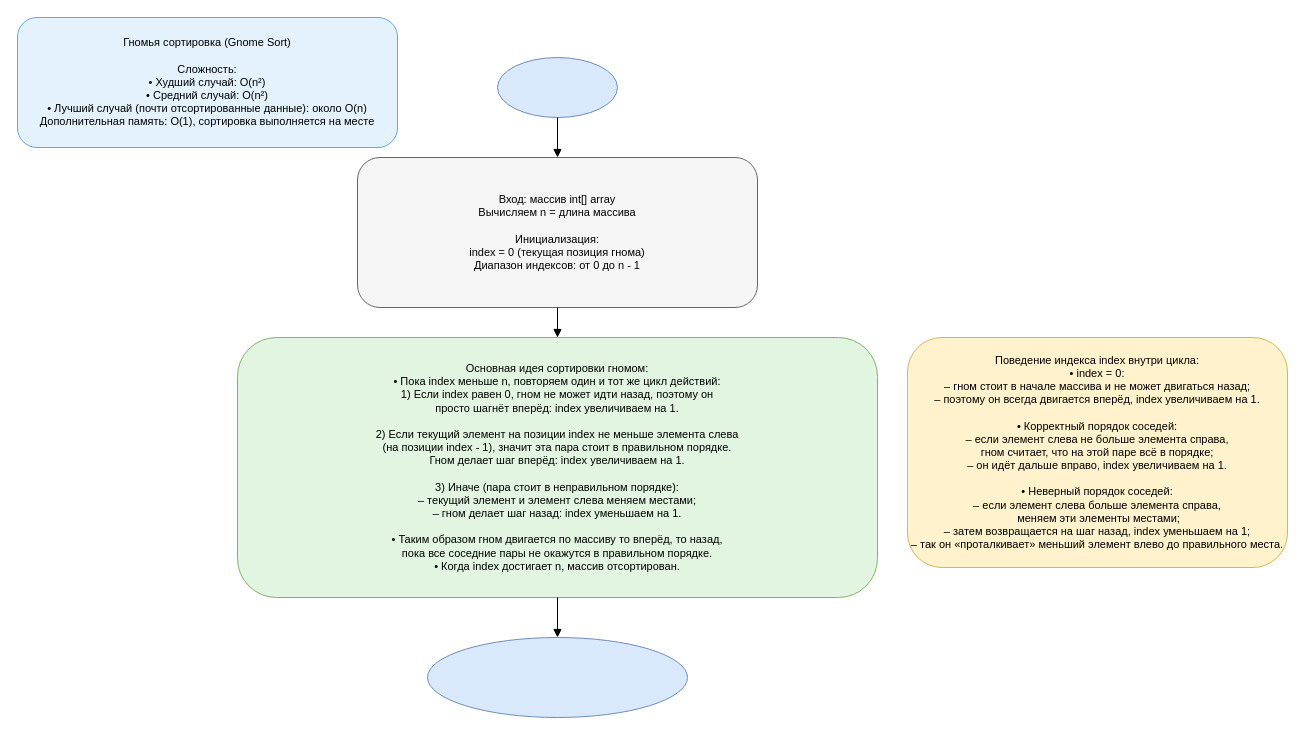
Image size: 1305x735. Some labels were removed from this diagram. Here are the shapes that lost their labels. From the top down, the box of each, then its label:
(496, 56, 618, 118): Start
(426, 636, 688, 718): Finish
